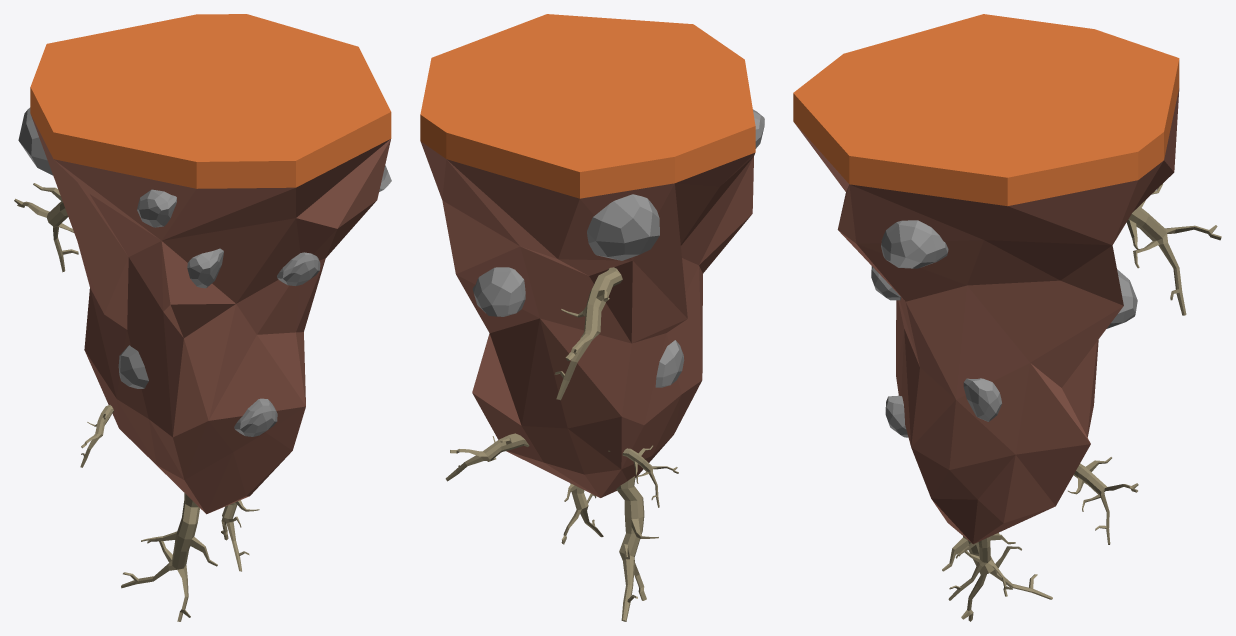
File: 01_03Island_Orange.fbx
3 renders of one model, left to right at view 1: azimuth 30°, elevation 25°; view 2: azimuth 150°, elevation 25°; view 3: azimuth 270°, elevation 25°, orthographic. The views are drawn at different scales.
Visible parts, largest first — view 1: Cube.016; view 2: Cube.016; view 3: Cube.016.
Boxes of the visible parts, x1,y1,x2,y2 form: Cube.016: (14,14,391,621); Cube.016: (420,14,764,621); Cube.016: (793,14,1221,621).
Size of the model in its own units: 855 by 1327 by 945.
